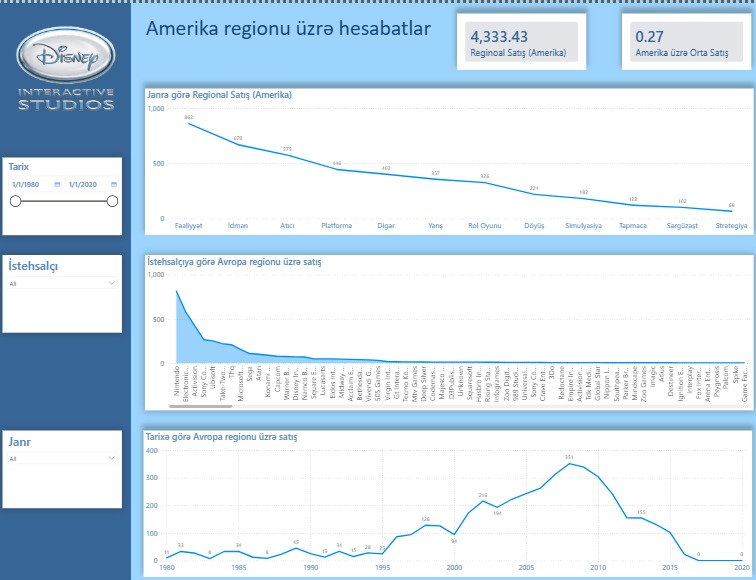

What the dashboard file says about the page in this screenshot:
{"tool":"powerbi","page":{"name":"PAGE 3","canvas":[1700,1300],"ordinal":2},"visuals":[{"type":"shape","box":[0,0,295,1300],"z":0},{"type":"lineChart","title":"Tarixə görə Avropa regionu üzrə satış","fields":{"Y":["Sheet 2.Reginoal Satış (Amerika)"],"Category":["Sheet 2.Tarix"]},"box":[322.5,950,1352.5,325],"z":1000},{"type":"areaChart","title":"İstehsalçıya görə Avropa regionu üzrə satış","fields":{"Category":["Sheet 2.İstehsalçı"],"Y":["Sheet 2.Reginoal Satış (Amerika)"]},"box":[325,560,1352.5,345],"z":2000},{"type":"image","box":[25,0,250,295],"z":3000},{"type":"lineChart","title":"Janra görə Regional Satış (Amerika)","fields":{"Y":["Sheet 2.Reginoal Satış (Amerika)"],"Category":["Sheet 2.Janr"]},"box":[325,190,1352.5,325],"z":4000},{"type":"textbox","box":[322.5,20,660,95],"z":5000},{"type":"cardVisual","fields":{"Data":["Sheet 2.Reginoal Satış (Amerika)"]},"box":[1020,22.5,287.5,125],"z":6000},{"type":"cardVisual","fields":{"Data":["Sheet 2.Amerika üzrə Orta Satış"]},"box":[1387.5,22.5,287.5,125],"z":7000},{"type":"slicer","fields":{"Values":["Sheet 2.Janr"]},"box":[10,950,265,172.5],"z":8000},{"type":"slicer","fields":{"Values":["Sheet 2.İstehsalçı"]},"box":[10,560,265,172.5],"z":9000},{"type":"slicer","fields":{"Values":["Sheet 2.Tarix"]},"box":[10,342.5,265,172.5],"z":10000}]}

Visuals, with their boxes in screenshot pixels (x1, y1, x2, y2), scaled from the page's 1700x1300 canvas onto the 756x580 screenshot:
shape: l=0, t=0, r=131, b=579
"Tarixə görə Avropa regionu üzrə satış" lineChart: l=143, t=424, r=745, b=569
"İstehsalçıya görə Avropa regionu üzrə satış" areaChart: l=145, t=250, r=746, b=404
image: l=11, t=0, r=122, b=132
"Janra görə Regional Satış (Amerika)" lineChart: l=145, t=85, r=746, b=230
textbox: l=143, t=9, r=437, b=51
cardVisual - Sheet 2.Reginoal Satış (Amerika): l=454, t=10, r=581, b=66
cardVisual - Sheet 2.Amerika üzrə Orta Satış: l=617, t=10, r=745, b=66
slicer - Sheet 2.Janr: l=4, t=424, r=122, b=501
slicer - Sheet 2.İstehsalçı: l=4, t=250, r=122, b=327
slicer - Sheet 2.Tarix: l=4, t=153, r=122, b=230
